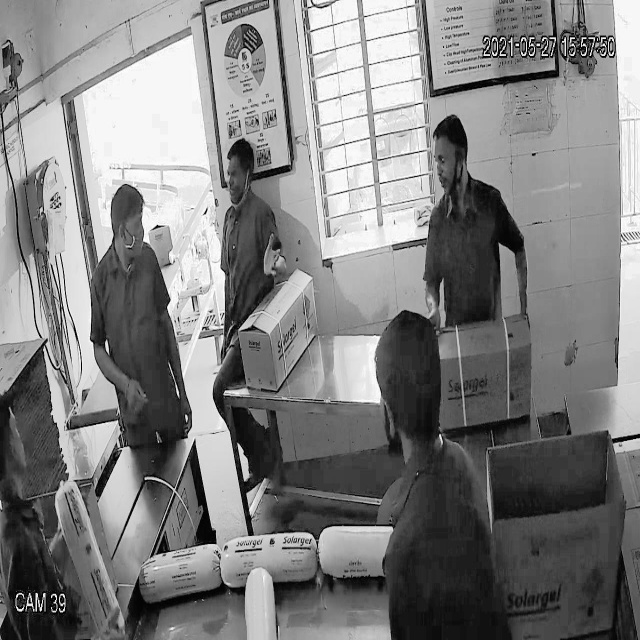Sin_gafas: (429, 144, 466, 178)
